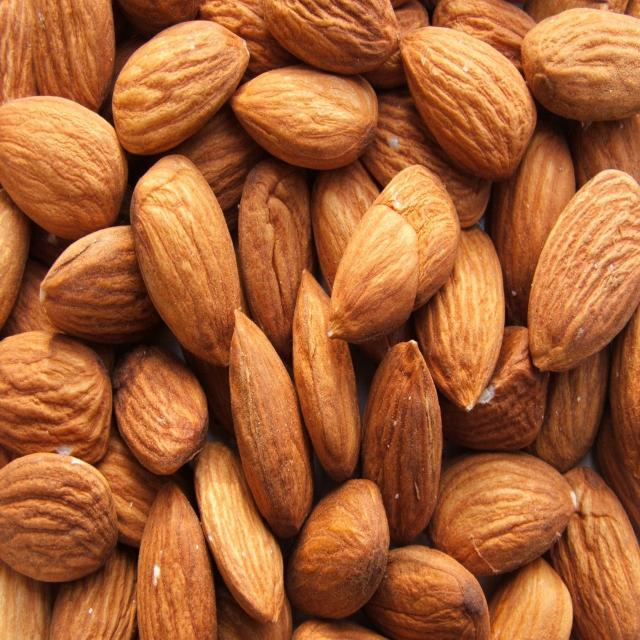Frutta secca: (7, 10, 634, 639)
